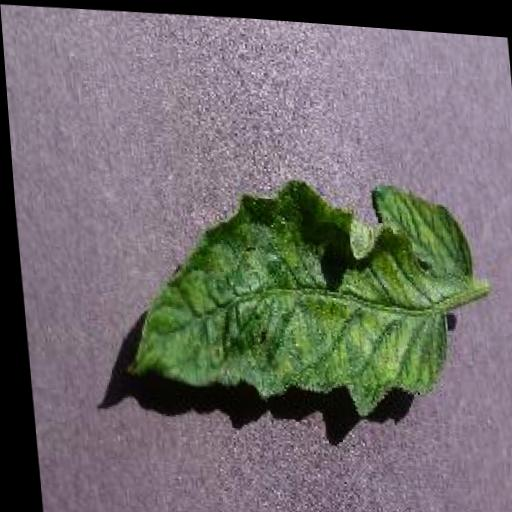Mosaic Virus: (104, 159, 481, 424)
